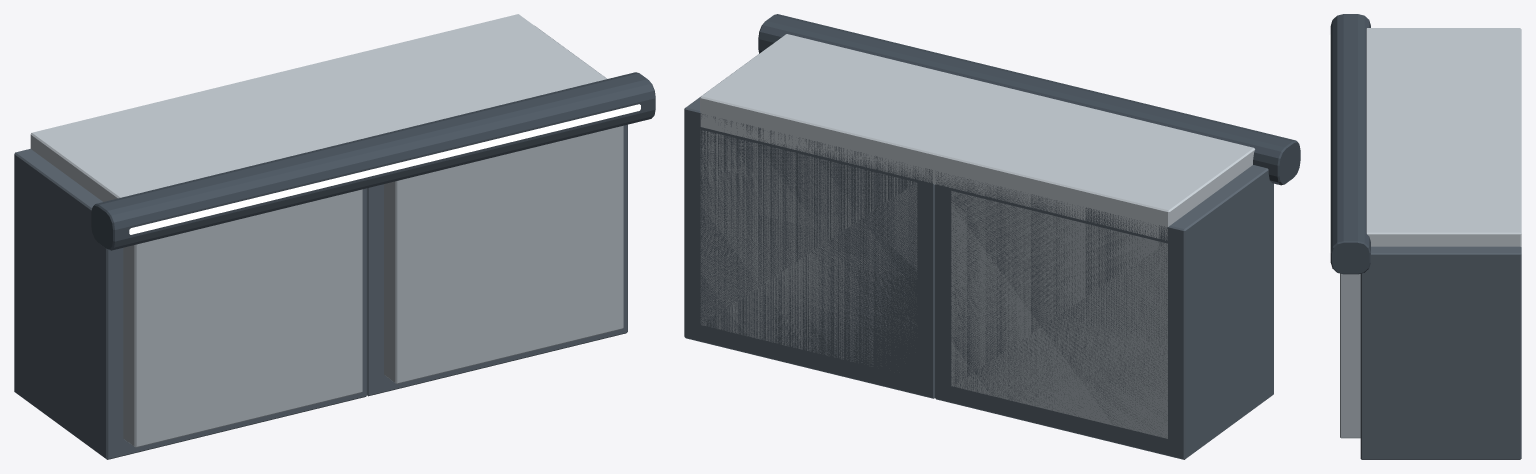
File: Terrain_TopRun2LR.gltf
3 views of the same model, side by side, from view 1: azimuth 30°, elevation 25°; view 2: azimuth 150°, elevation 25°; view 3: azimuth 270°, elevation 25° (orthographic). The views are drawn at different scales.
Parts seen in each view (by area): view 1: Terrain_TopRun2LR_baked; view 2: Terrain_TopRun2LR_baked; view 3: Terrain_TopRun2LR_baked.
Boxes of the visible parts, <box> form: Terrain_TopRun2LR_baked: <box>14,14,655,459</box>; Terrain_TopRun2LR_baked: <box>684,14,1300,459</box>; Terrain_TopRun2LR_baked: <box>1329,14,1521,459</box>.
Bounding box in the file's own units: 2.08 × 0.9495 × 0.74.
